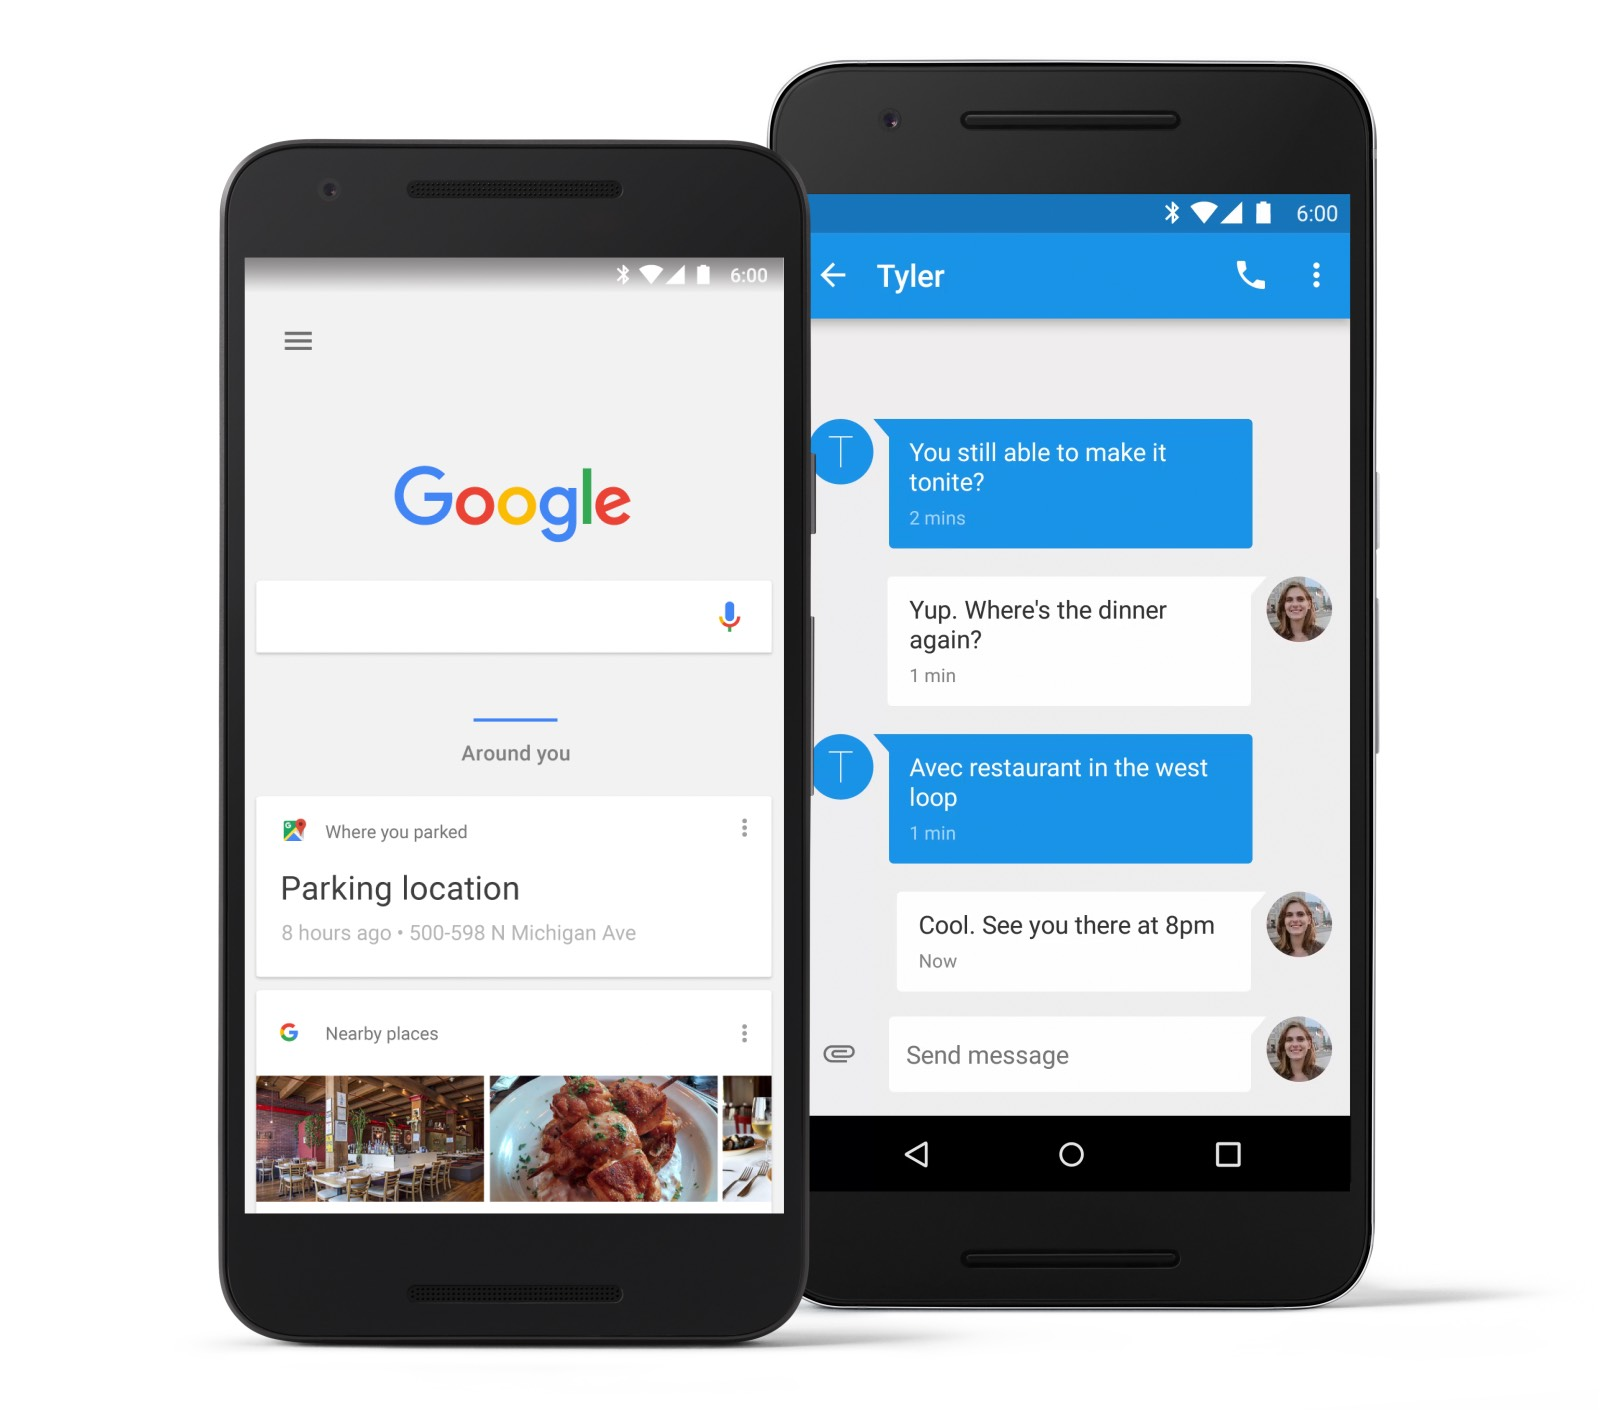smartphone: (767, 60, 1381, 1310), (219, 136, 816, 1346)
